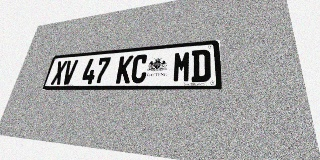4: (81, 58, 98, 84)
7: (93, 57, 111, 84)
C: (130, 54, 148, 83)
D: (191, 49, 211, 82)
K: (115, 55, 134, 83)
M: (172, 51, 191, 82)
V: (61, 60, 78, 85)
X: (50, 61, 68, 85)
